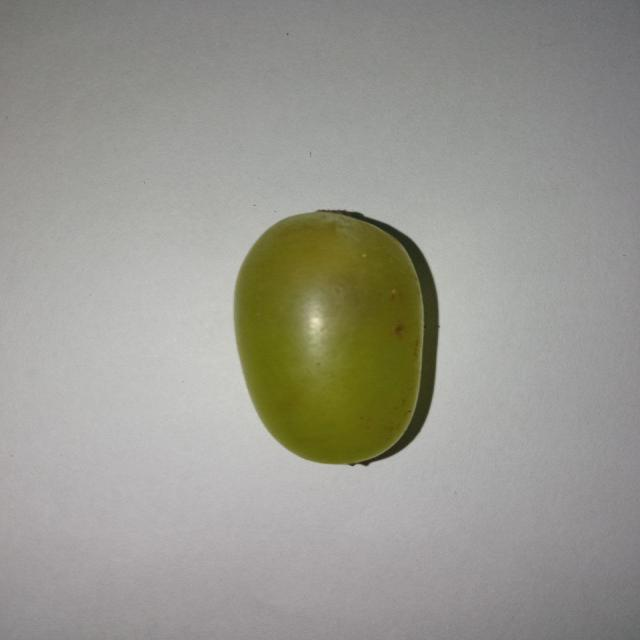fresh_grape: (238, 215, 421, 459)
